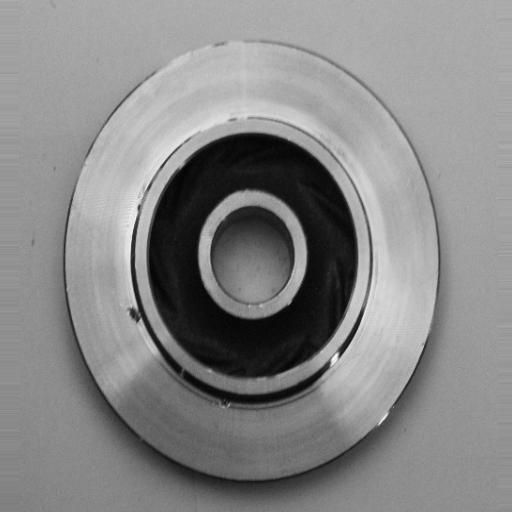crack: (117, 299, 152, 334), (212, 389, 244, 415)
scratch: (180, 111, 251, 141), (318, 338, 355, 381)
unpolished_casting: (59, 36, 443, 486)
